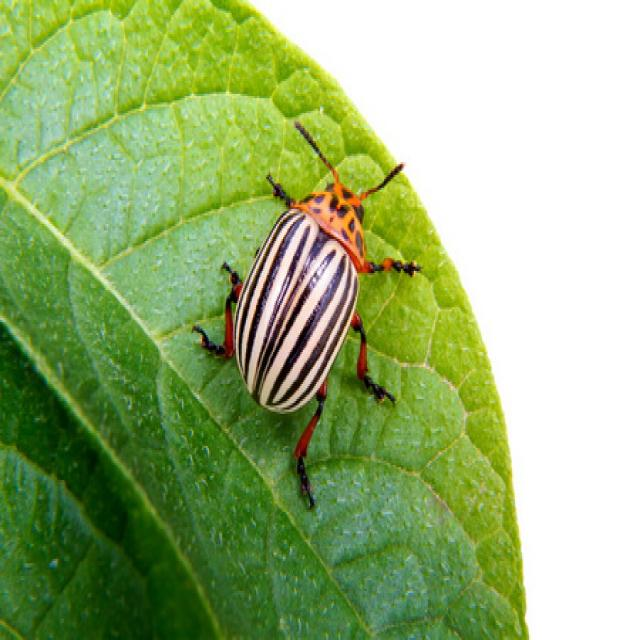ShuCaiHuaBanChong-Grown-: (223, 160, 414, 434)
